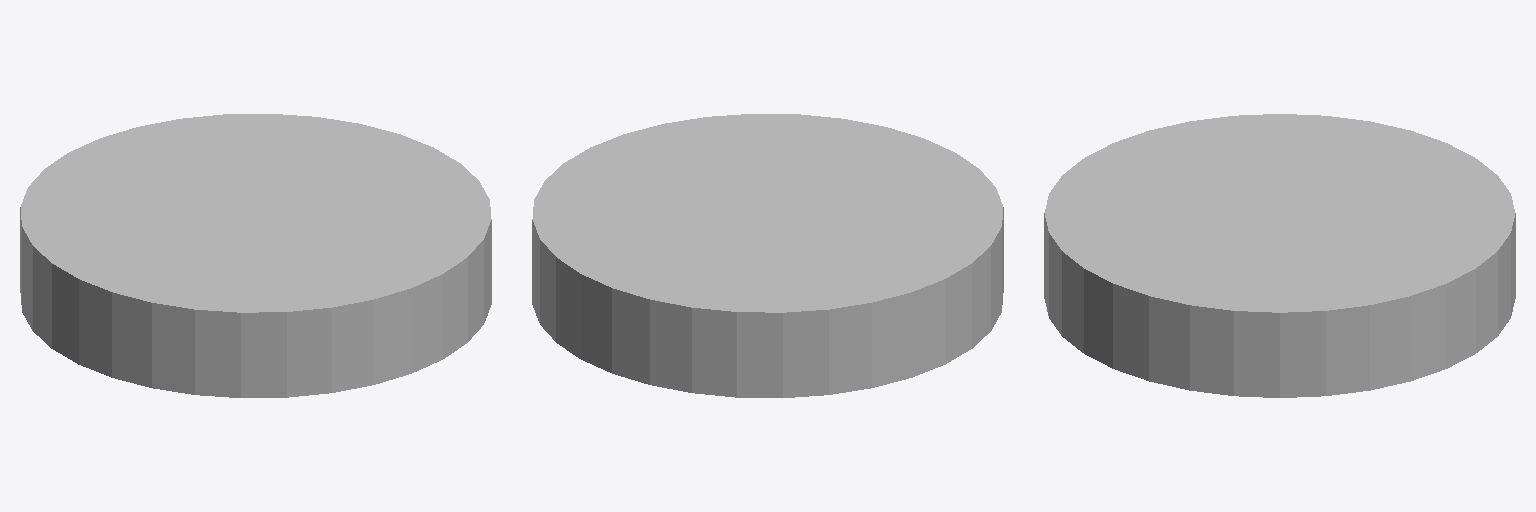
URDF robot description (disc):
<?xml version="1.0"?>
<robot name="disc">
  <link name="disc_link">
    <visual>
      <geometry>
        <cylinder radius="0.25" length="0.1"/>
      </geometry>
      <material name="cylinder_material">
        <color rgba="0.8 0.8 0.8 1.0"/>
      </material>
    </visual>
    <collision>
      <geometry>
        <cylinder radius="0.25" length="0.1"/>
      </geometry>
    </collision>
    <inertial>
      <mass value="1.0"/>
      <origin xyz="0 0 0" rpy="0 0 0"/>
      <inertia ixx="0.1" ixy="0.0" ixz="0.0" iyy="0.1" iyz="0.0" izz="0.1"/>
    </inertial>
  </link>
</robot>

--- Render facts (derived) ---
Views: 3 orthographic renders of the robot side by side, from view 1: azimuth 30°, elevation 25°; view 2: azimuth 150°, elevation 25°; view 3: azimuth 270°, elevation 25°.
Robot: disc — 1 links, 0 joints (none); root link disc_link; default pose: every joint at zero.
Visible links, largest first — view 1: disc_link; view 2: disc_link; view 3: disc_link.
Link boxes in pixels (<box>): disc_link: <box>20,114,491,397</box>; disc_link: <box>532,114,1003,397</box>; disc_link: <box>1044,114,1515,397</box>.
Size in the robot's own frame: 0.5 by 0.5 by 0.1 metres.
Geometry: primitives only (box / cylinder / sphere), no mesh files.
